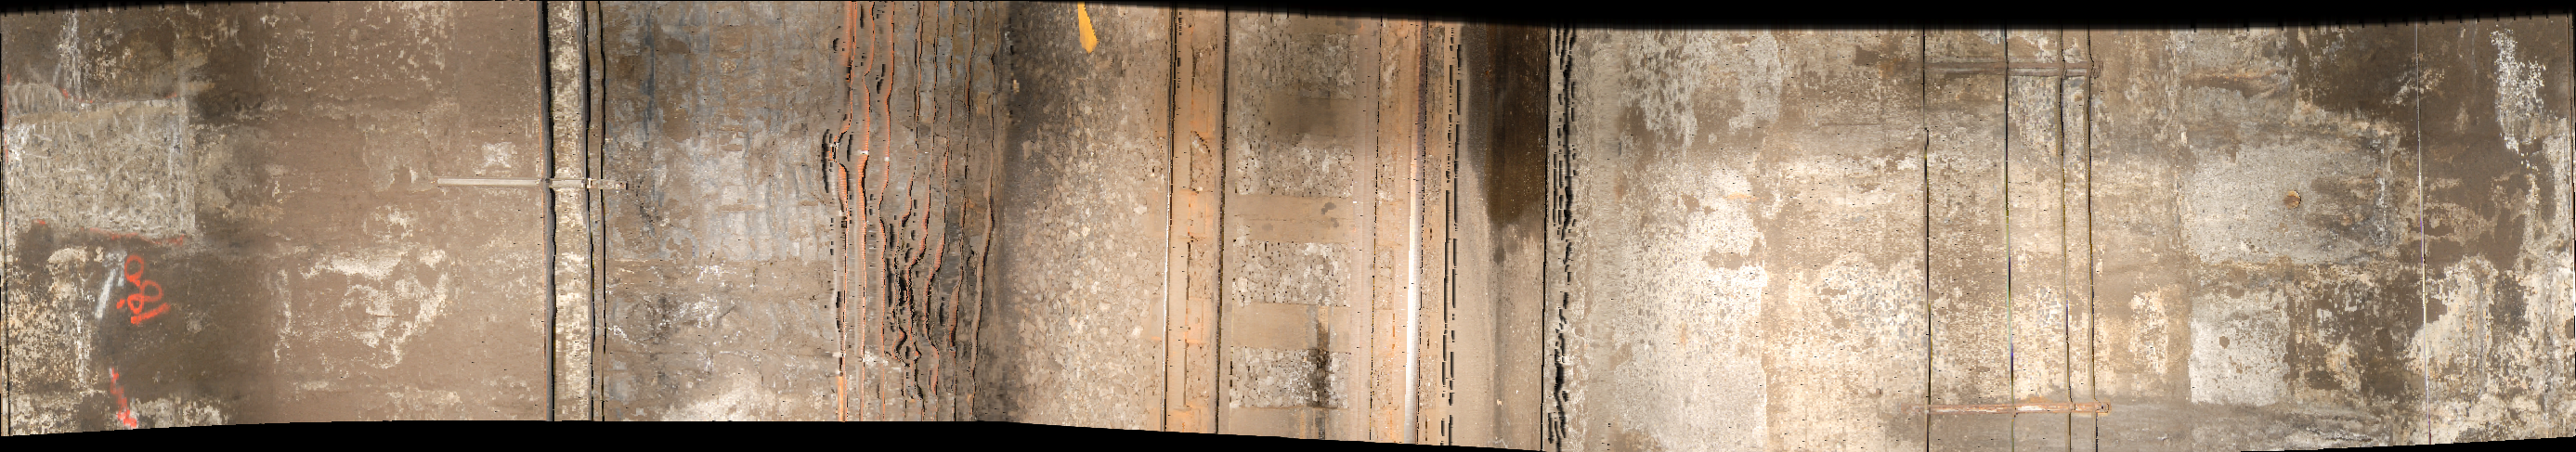pipes: (1911, 33, 2103, 452), (835, 5, 1000, 452), (531, 8, 616, 434)
tracks: (1163, 8, 1462, 452)
